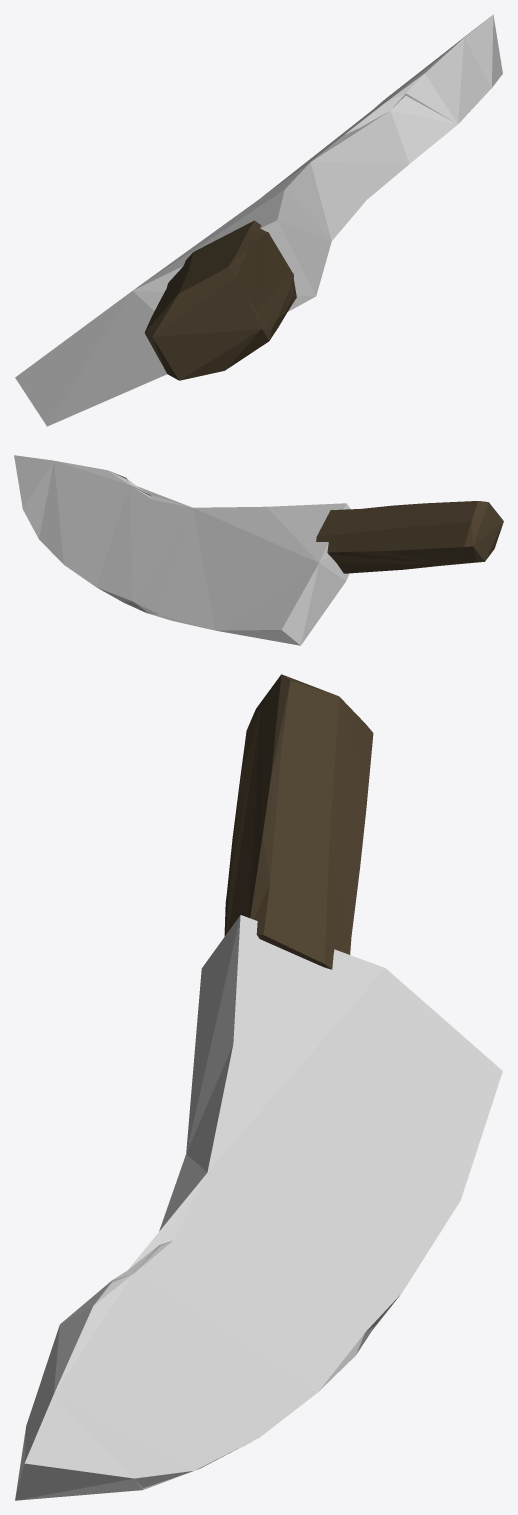
File: SIMPLE KNIFE.fbx
The picture shows the model from 3 angles, top to bottom: view 1: azimuth 90°, elevation 25°; view 2: azimuth 150°, elevation 25°; view 3: azimuth 270°, elevation 25°; orthographic projection. The views are drawn at different scales.
Visible parts, largest first — view 1: Layer_10.001; view 2: Layer_10.001; view 3: Layer_10.001.
Part boxes in pixels (box(x1,y1,x2,y2)): Layer_10.001: box(15, 14, 502, 426); Layer_10.001: box(14, 455, 503, 645); Layer_10.001: box(15, 674, 502, 1500).
Size of the model in its own units: 199 by 62.06 by 76.69.
